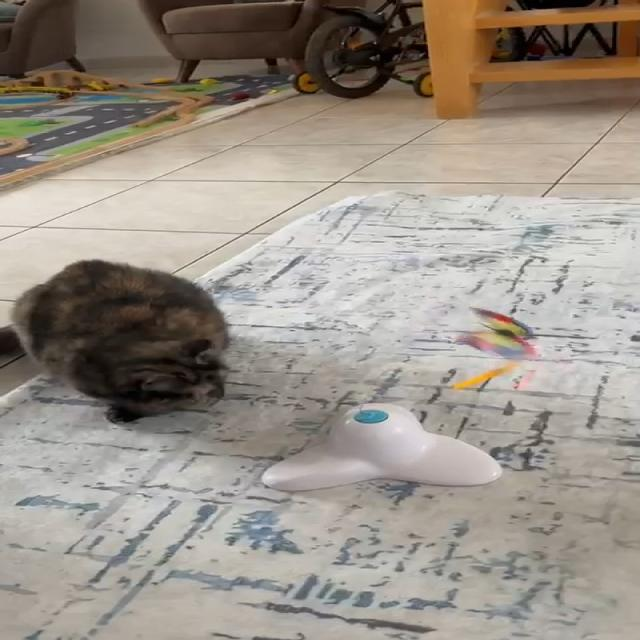authorized: (5, 258, 231, 424)
